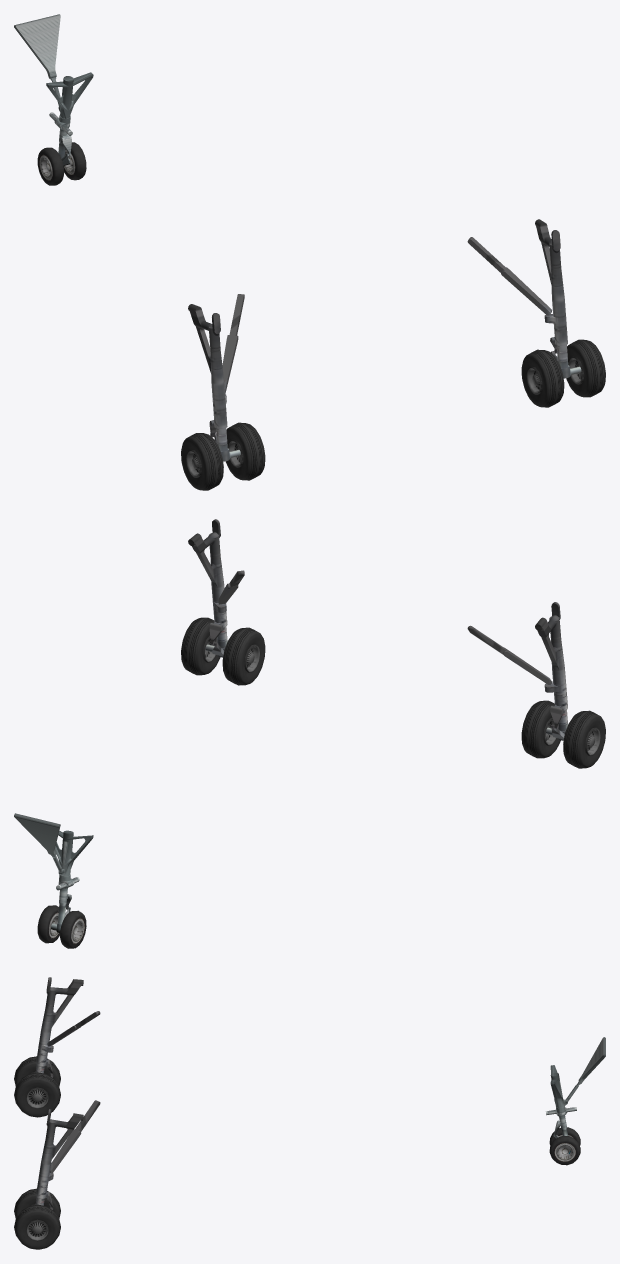
The picture shows the model from 3 angles, top to bottom: view 1: azimuth 30°, elevation 25°; view 2: azimuth 150°, elevation 25°; view 3: azimuth 270°, elevation 25°; orthographic projection. The views are drawn at different scales.
Visible parts, largest first — view 1: Tires (×3), FITTING (×3), D_STRUCT.U, Bearing (×2); view 2: Tires (×3), FITTING (×3), D_STRUCT.U; view 3: Tires (×3), FITTING (×3), Bearing (×2), D_STRUCT.U, D_STRUCT.L.
Part boxes in pixels (bbox=[...]): Tires (×3): bbox=[37, 142, 605, 490]; FITTING (×3): bbox=[46, 72, 567, 428]; D_STRUCT.U: bbox=[14, 14, 60, 78]; Bearing (×2): bbox=[186, 356, 584, 477]; Tires (×3): bbox=[37, 617, 605, 948]; FITTING (×3): bbox=[55, 519, 567, 904]; D_STRUCT.U: bbox=[14, 813, 60, 855]; Tires (×3): bbox=[14, 1056, 580, 1249]; FITTING (×3): bbox=[36, 977, 567, 1198]; Bearing (×2): bbox=[26, 1072, 48, 1241]; D_STRUCT.U: bbox=[578, 1037, 605, 1084]; D_STRUCT.L: bbox=[50, 1129, 81, 1173].
Size of the model in its own units: 8.92 by 3.5 by 14.36.
2 materials, 2 textured.
